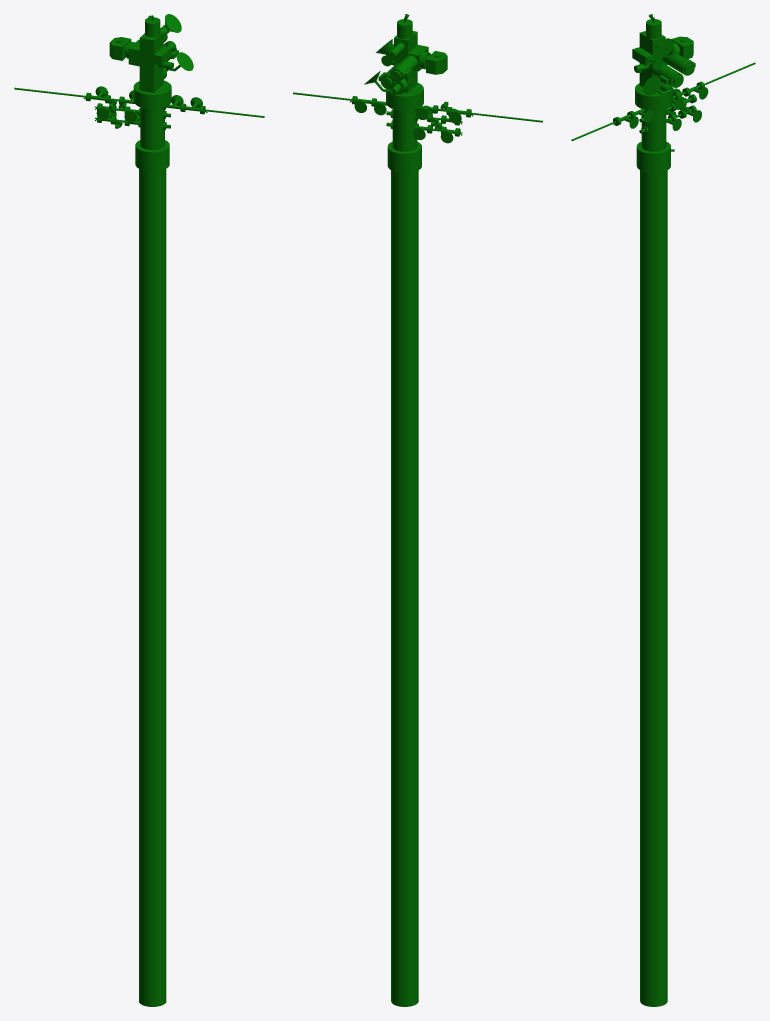
File: Image-1710907665990-2280463767408_WELLHEAD-A5.fbx
The picture shows the model from 3 angles, left to right: view 1: azimuth 30°, elevation 25°; view 2: azimuth 210°, elevation 25°; view 3: azimuth 270°, elevation 25°; orthographic projection.
Parts seen in each view (by area): view 1: CYLINDER 1 of SUBEQUIPMENT /WELLHEAD-A5/PRIM, BOX 1 of SUBEQUIPMENT /WELLHEAD-A5/XTREE, CYLINDER 3 of SUBEQUIPMENT /WELLHEAD-A5/PRIM, CYLINDER 2 of SUBEQUIPMENT /WELLHEAD-A5/PRIM, CYLINDER 4 of SUBEQUIPMENT /WELLHEAD-A5/PRIM; view 2: CYLINDER 1 of SUBEQUIPMENT /WELLHEAD-A5/PRIM, CYLINDER 3 of SUBEQUIPMENT /WELLHEAD-A5/PRIM, CYLINDER 2 of SUBEQUIPMENT /WELLHEAD-A5/PRIM, CYLINDER 4 of SUBEQUIPMENT /WELLHEAD-A5/PRIM, BOX 1 of SUBEQUIPMENT /WELLHEAD-A5/XTREE; view 3: CYLINDER 1 of SUBEQUIPMENT /WELLHEAD-A5/PRIM, CYLINDER 3 of SUBEQUIPMENT /WELLHEAD-A5/PRIM, CYLINDER 2 of SUBEQUIPMENT /WELLHEAD-A5/PRIM, CYLINDER 4 of SUBEQUIPMENT /WELLHEAD-A5/PRIM, BOX 1 of SUBEQUIPMENT /WELLHEAD-A5/XTREE.
Boxes of the visible parts, left/top/right/bottom form: CYLINDER 1 of SUBEQUIPMENT /WELLHEAD-A5/PRIM: left=139, top=169, right=166, bottom=1006; BOX 1 of SUBEQUIPMENT /WELLHEAD-A5/XTREE: left=139, top=31, right=163, bottom=92; CYLINDER 3 of SUBEQUIPMENT /WELLHEAD-A5/PRIM: left=140, top=107, right=164, bottom=150; CYLINDER 2 of SUBEQUIPMENT /WELLHEAD-A5/PRIM: left=135, top=140, right=169, bottom=171; CYLINDER 4 of SUBEQUIPMENT /WELLHEAD-A5/PRIM: left=133, top=80, right=171, bottom=108; CYLINDER 1 of SUBEQUIPMENT /WELLHEAD-A5/PRIM: left=391, top=170, right=418, bottom=1006; CYLINDER 3 of SUBEQUIPMENT /WELLHEAD-A5/PRIM: left=392, top=109, right=417, bottom=151; CYLINDER 2 of SUBEQUIPMENT /WELLHEAD-A5/PRIM: left=387, top=141, right=421, bottom=173; CYLINDER 4 of SUBEQUIPMENT /WELLHEAD-A5/PRIM: left=386, top=83, right=423, bottom=110; BOX 1 of SUBEQUIPMENT /WELLHEAD-A5/XTREE: left=394, top=31, right=417, bottom=92; CYLINDER 1 of SUBEQUIPMENT /WELLHEAD-A5/PRIM: left=640, top=170, right=667, bottom=1006; CYLINDER 3 of SUBEQUIPMENT /WELLHEAD-A5/PRIM: left=641, top=109, right=666, bottom=151; CYLINDER 2 of SUBEQUIPMENT /WELLHEAD-A5/PRIM: left=636, top=141, right=670, bottom=172; CYLINDER 4 of SUBEQUIPMENT /WELLHEAD-A5/PRIM: left=635, top=83, right=672, bottom=110; BOX 1 of SUBEQUIPMENT /WELLHEAD-A5/XTREE: left=639, top=31, right=665, bottom=86.
Size of the model in its own units: 5.08 by 5.09 by 30.05.
